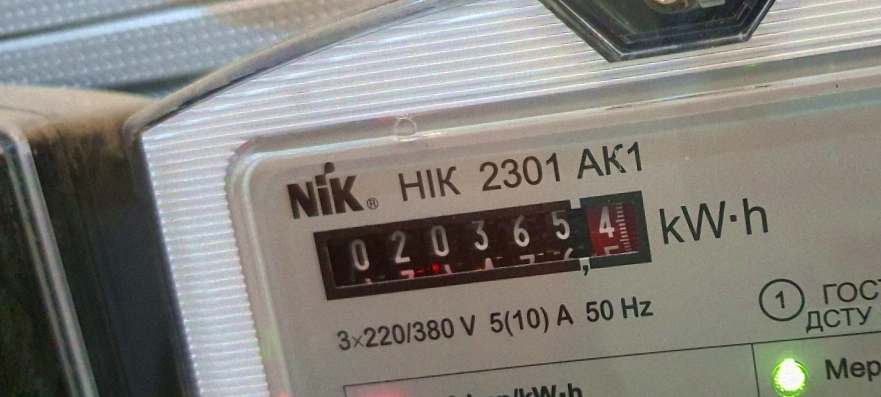0: (429, 221, 451, 258), (348, 236, 371, 271)
2: (386, 227, 412, 264)
3: (469, 215, 490, 251)
4: (595, 203, 616, 238)
5: (549, 207, 572, 240)
6: (509, 211, 531, 248)
screen: (295, 178, 671, 310)
